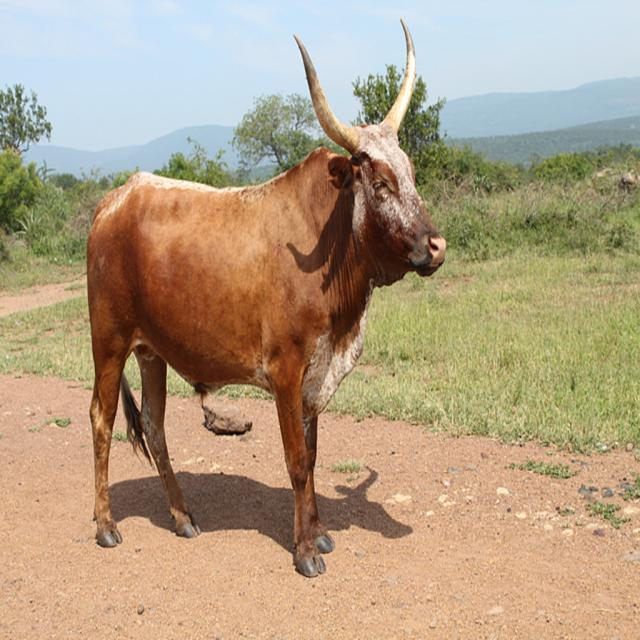Cattle: (54, 92, 423, 585)
